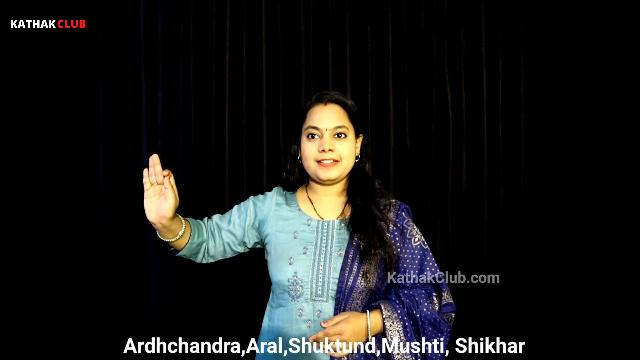aral: (132, 136, 194, 253)
